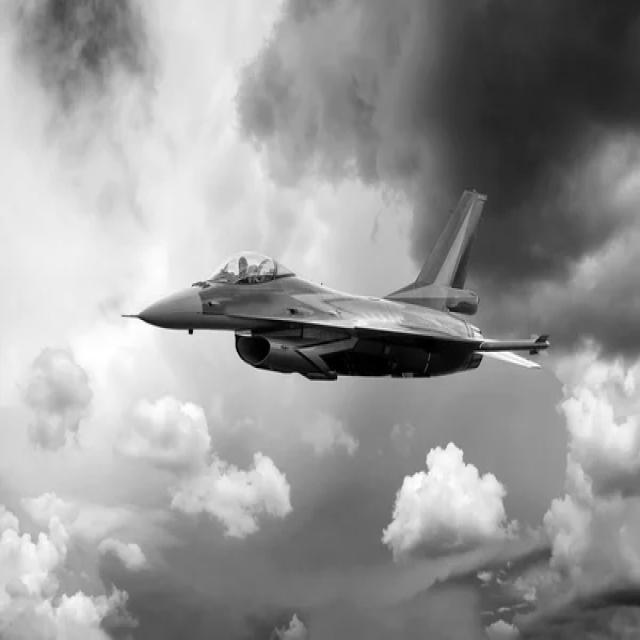Aircraft: (116, 178, 558, 374)
